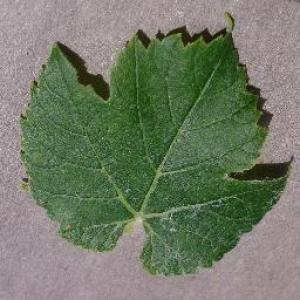Folha: (18, 10, 293, 276)
